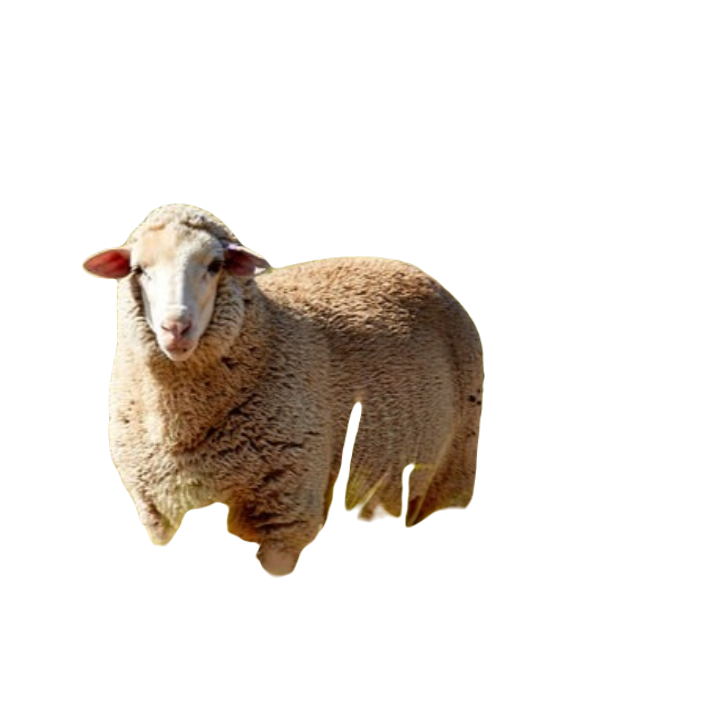Sheep: (76, 199, 491, 582)
